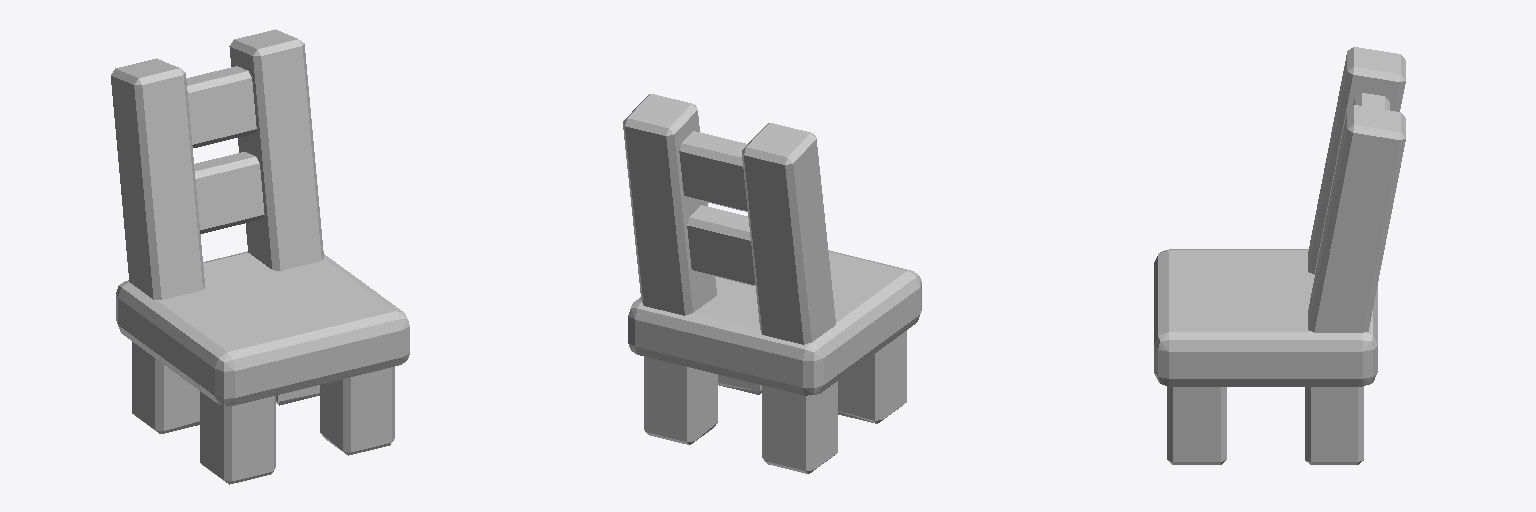
Rendered from chair_A.obj.
3 renders of one model, left to right at view 1: azimuth 30°, elevation 25°; view 2: azimuth 150°, elevation 25°; view 3: azimuth 270°, elevation 25°, orthographic.
Visible parts, largest first — view 1: chair_A_Cube.034; view 2: chair_A_Cube.034; view 3: chair_A_Cube.034.
Part boxes in pixels (left/top/right/bottom): chair_A_Cube.034: left=111, top=29, right=409, bottom=484; chair_A_Cube.034: left=623, top=94, right=921, bottom=473; chair_A_Cube.034: left=1154, top=47, right=1405, bottom=464.
Bounding box in the file's own units: 0.75 × 1.26 × 0.8451.